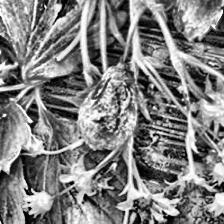Gray Mold: (78, 62, 139, 151)
